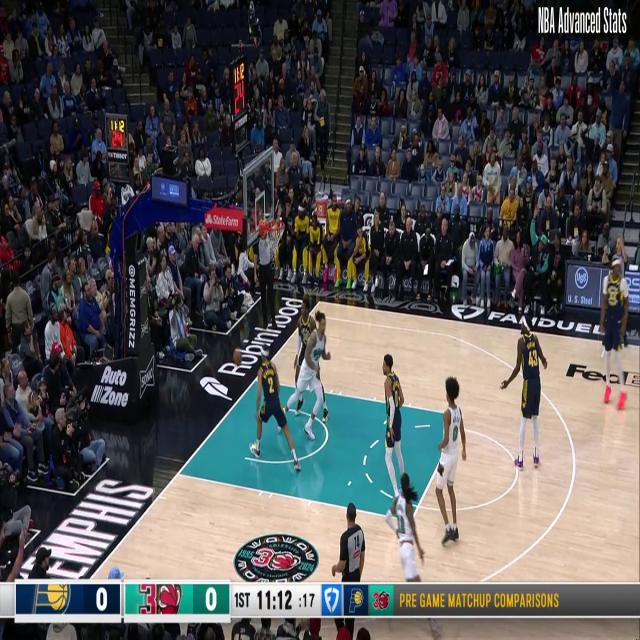ball: (233, 349, 242, 365)
judge: (333, 501, 365, 635), (255, 219, 276, 327)
player: (274, 309, 332, 443), (384, 477, 431, 637), (501, 319, 547, 472), (250, 351, 300, 473), (434, 377, 466, 541), (380, 354, 411, 504), (293, 296, 327, 427), (599, 257, 630, 397)
